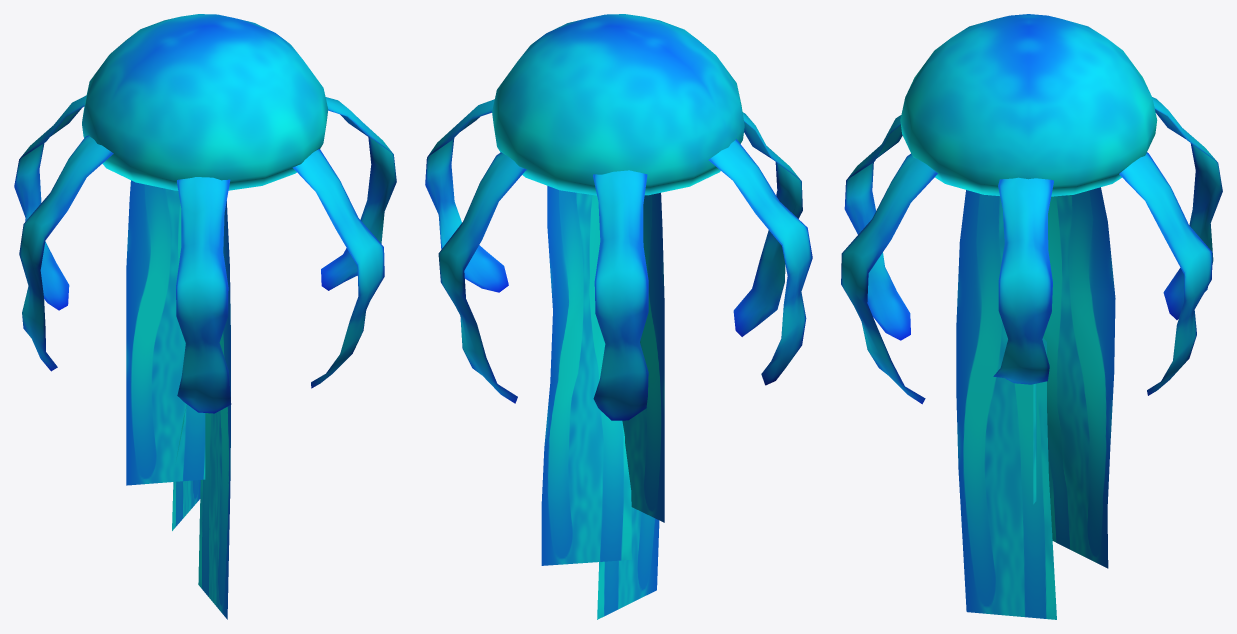
Rendered from p_mesh_jellyfish02.fbx.
3 views of the same model, side by side, from view 1: azimuth 30°, elevation 25°; view 2: azimuth 150°, elevation 25°; view 3: azimuth 270°, elevation 25° (orthographic). The views are drawn at different scales.
Visible parts, largest first — view 1: jellyfish03; view 2: jellyfish03; view 3: jellyfish03.
Boxes of the visible parts, left/top/right/bottom form: jellyfish03: left=14, top=14, right=396, bottom=619; jellyfish03: left=425, top=14, right=812, bottom=619; jellyfish03: left=841, top=14, right=1222, bottom=619.
Bounding box in the file's own units: 4.15 × 6.29 × 3.7.
